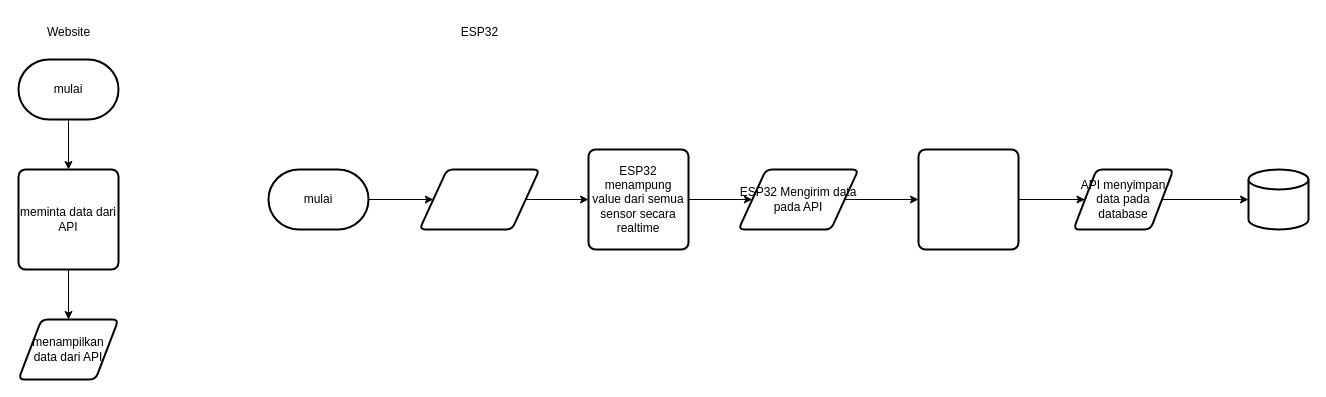
This 1326x397 diagram has some shape labels left out. The shapes that lost their labels are listed below. From the top down, each one's centre as x and y in pixels, then its label:
At (x=479, y=199): "sensor input value pada ESP 32".
At (x=968, y=199): "API menerima data dari ESP32".
At (x=1278, y=199): "database".
